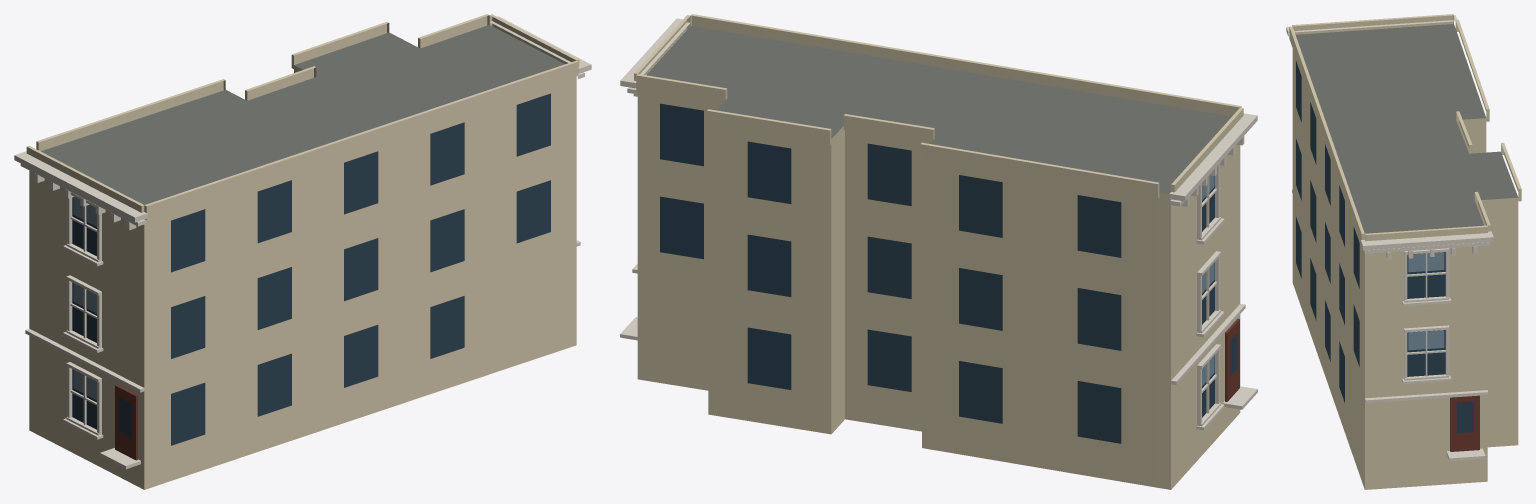
3 renders of one model, left to right at view 1: azimuth 30°, elevation 25°; view 2: azimuth 150°, elevation 25°; view 3: azimuth 270°, elevation 25°, orthographic. The views are drawn at different scales.
Parts seen in each view (by area): view 1: Footprint 0 / surface 2, Footprint 0 / surface 1, Inset glazing, Facade bay volumes, Cornices and window frames, Sky reflection panels, Storefronts and doors; view 2: Footprint 0 / surface 2, Footprint 0 / surface 1, Inset glazing, Facade bay volumes, Cornices and window frames, Storefronts and doors; view 3: Footprint 0 / surface 2, Footprint 0 / surface 1, Inset glazing, Cornices and window frames, Facade bay volumes, Sky reflection panels, Storefronts and doors.
Part boxes in pixels (left/top/right/bottom): Footprint 0 / surface 2: left=29, top=65, right=576, bottom=489; Footprint 0 / surface 1: left=41, top=25, right=564, bottom=204; Inset glazing: left=72, top=93, right=550, bottom=445; Facade bay volumes: left=26, top=14, right=579, bottom=219; Cornices and window frames: left=14, top=16, right=591, bottom=469; Sky reflection panels: left=73, top=197, right=96, bottom=400; Storefronts and doors: left=115, top=385, right=137, bottom=460; Footprint 0 / surface 2: left=637, top=90, right=1240, bottom=489; Footprint 0 / surface 1: left=646, top=26, right=1231, bottom=194; Inset glazing: left=660, top=103, right=1237, bottom=443; Facade bay volumes: left=634, top=14, right=1243, bottom=198; Cornices and window frames: left=620, top=18, right=1257, bottom=430; Storefronts and doors: left=1225, top=318, right=1239, bottom=401; Footprint 0 / surface 2: left=1292, top=49, right=1518, bottom=489; Footprint 0 / surface 1: left=1295, top=24, right=1518, bottom=233; Inset glazing: left=1296, top=61, right=1473, bottom=433; Cornices and window frames: left=1286, top=15, right=1493, bottom=461; Facade bay volumes: left=1289, top=14, right=1521, bottom=243; Sky reflection panels: left=1408, top=252, right=1444, bottom=350; Storefronts and doors: left=1450, top=395, right=1479, bottom=451.
Size of the model in its own units: 20.11 by 10.42 by 8.67.
